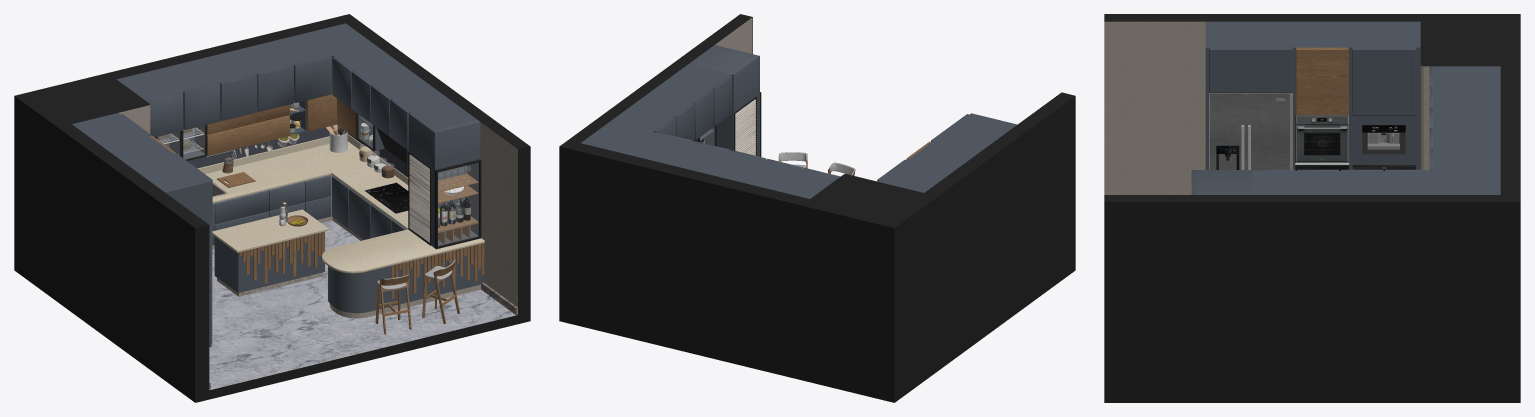
Rendered from scene-opt.glb.
3 renders of one model, left to right at view 1: azimuth 30°, elevation 25°; view 2: azimuth 150°, elevation 25°; view 3: azimuth 270°, elevation 25°, orthographic. The views are drawn at different scales.
Parts seen in each view (by area): view 1: CLC855_URBAN_Black_0, Cabinets_Closet_0, Walls_Floor_0, Cabinets_Countertop_0, Cabinets_OakWood_0, Cabinets_White_0, Component_Glass_0, Cabinets_Chrome_0, TRB_84300_TRB_843_00_TCS_01_0, DDDD.004_wire_3_0; view 2: CLC855_URBAN_Black_0, Cabinets_Closet_0, Cabinets_Chrome_0, Cabinets_White_0, Stool_M_12_s21_0; view 3: CLC855_URBAN_Black_0, Cabinets_Closet_0, Cabinets_White_0, RLF_74925_Aluminum_0, Cabinets_OakWood_0, HLB_840_Front.001_0, HLB_840_Brushed_Metal1_0.
Boxes of the visible parts, x1,y1,x2,y2 form: CLC855_URBAN_Black_0: (14,14,530,402); Cabinets_Closet_0: (72,23,483,347); Walls_Floor_0: (209,220,515,389); Cabinets_Countertop_0: (197,134,484,273); Cabinets_OakWood_0: (150,93,484,334); Cabinets_White_0: (118,105,517,318); Component_Glass_0: (158,103,478,245); Cabinets_Chrome_0: (161,127,429,242); TRB_84300_TRB_843_00_TCS_01_0: (364,182,408,213); DDDD.004_wire_3_0: (209,102,517,390); CLC855_URBAN_Black_0: (559,14,1075,402); Cabinets_Closet_0: (581,45,1017,198); Cabinets_Chrome_0: (735,99,756,155); Cabinets_White_0: (715,17,752,53); Stool_M_12_s21_0: (779,152,854,176); CLC855_URBAN_Black_0: (1104,14,1520,402); Cabinets_Closet_0: (1191,21,1500,194); Cabinets_White_0: (1104,21,1429,194); RLF_74925_Aluminum_0: (1210,93,1289,170); Cabinets_OakWood_0: (1296,47,1348,115); HLB_840_Front.001_0: (1295,116,1348,161); HLB_840_Brushed_Metal1_0: (1296,115,1348,162).
Size of the model in its own units: 6.57 by 3.27 by 6.14.
Materials: 50 (49 with a texture image).
